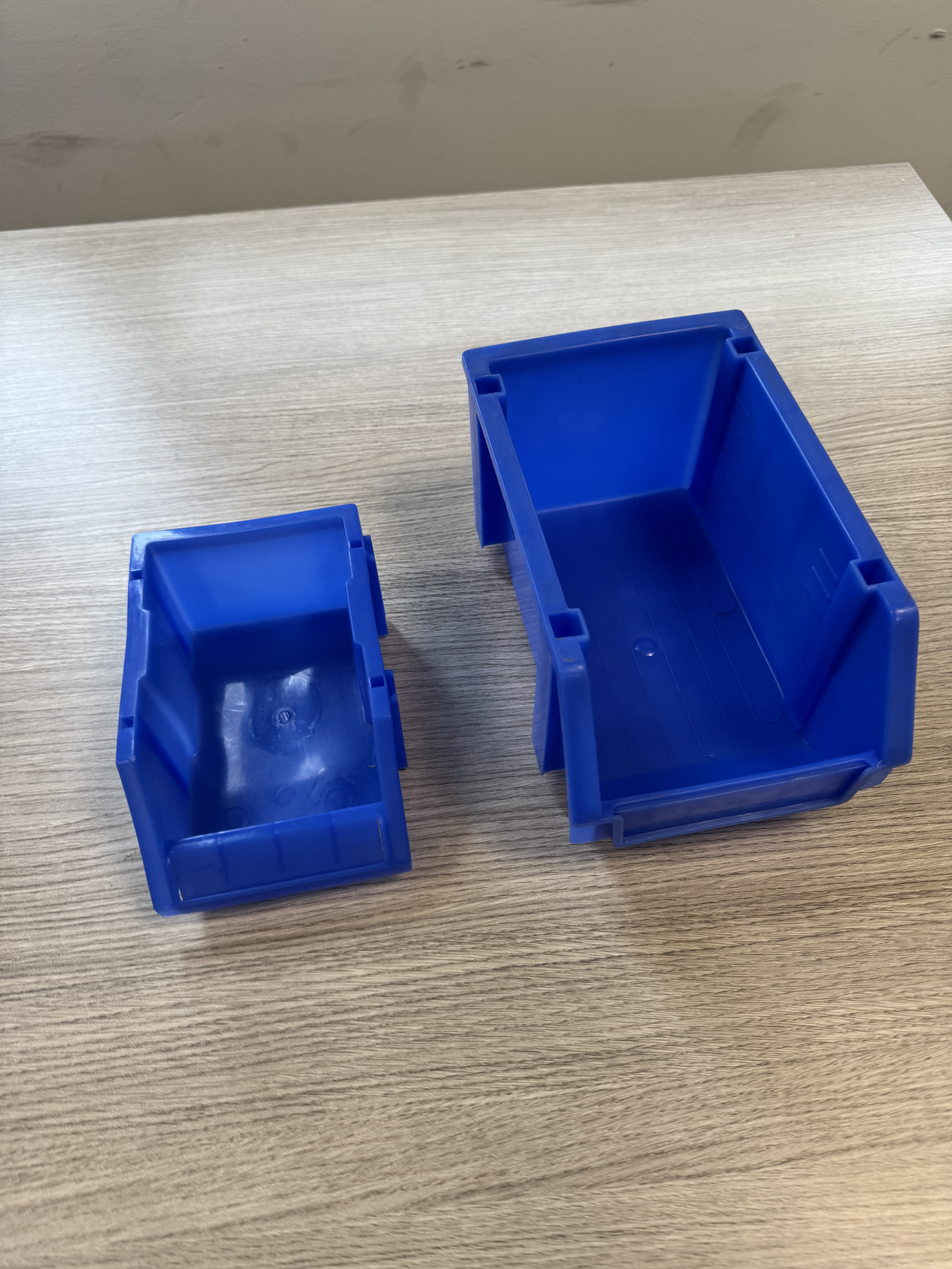Bin Boundary: (484, 280, 925, 822), (108, 520, 385, 845)
